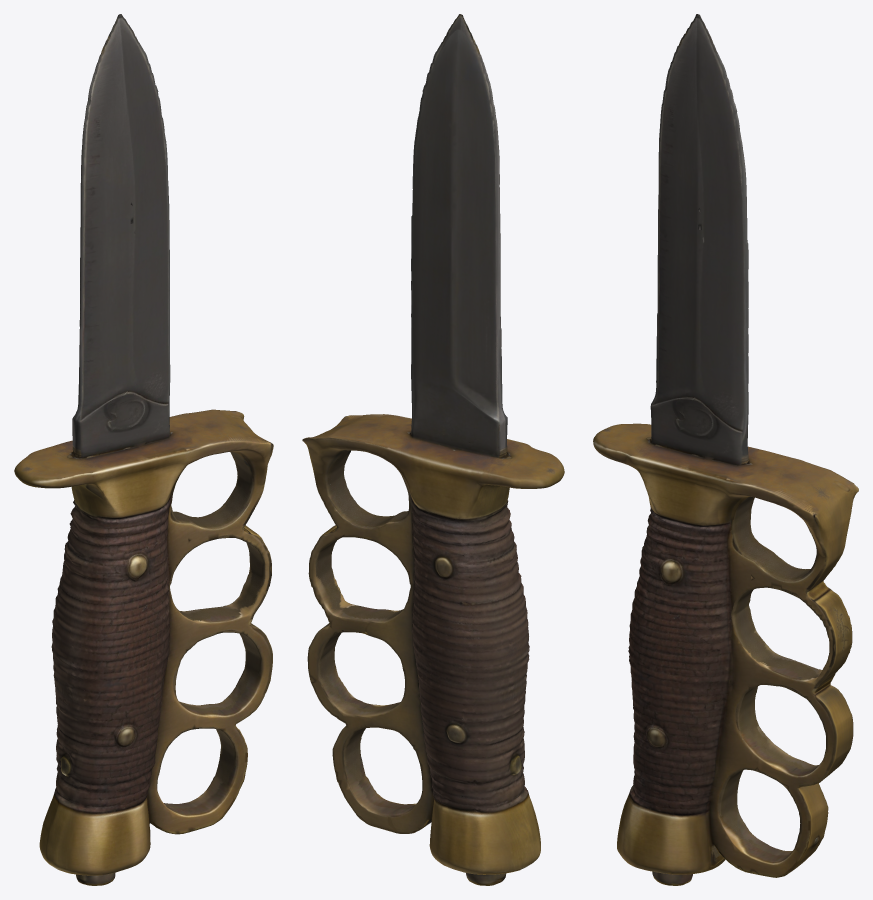
File: Trench Knife Display.glb
3 renders of one model, left to right at view 1: azimuth 30°, elevation 25°; view 2: azimuth 150°, elevation 25°; view 3: azimuth 330°, elevation 25°, orthographic.
Size of the model in its own units: 0.5957 by 2 by 0.2138.
1 material, 1 textured.
